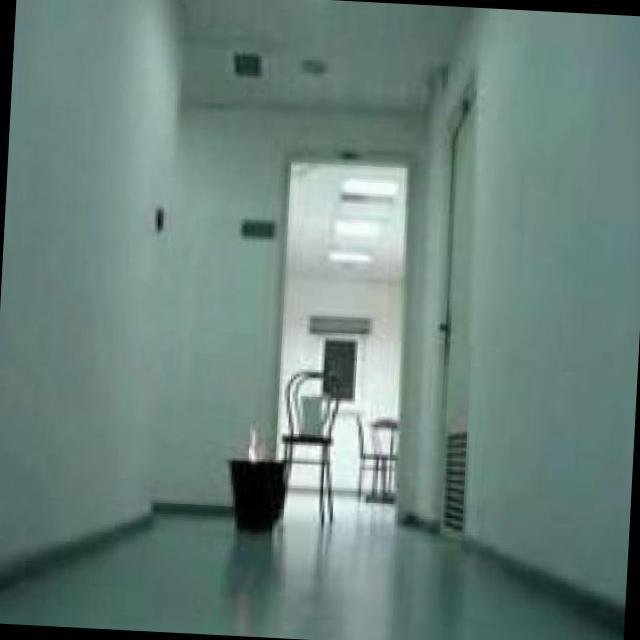Fire: (242, 425, 264, 468)
